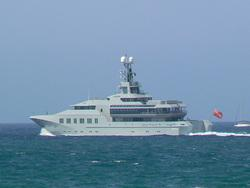yacht: (29, 55, 213, 137)
